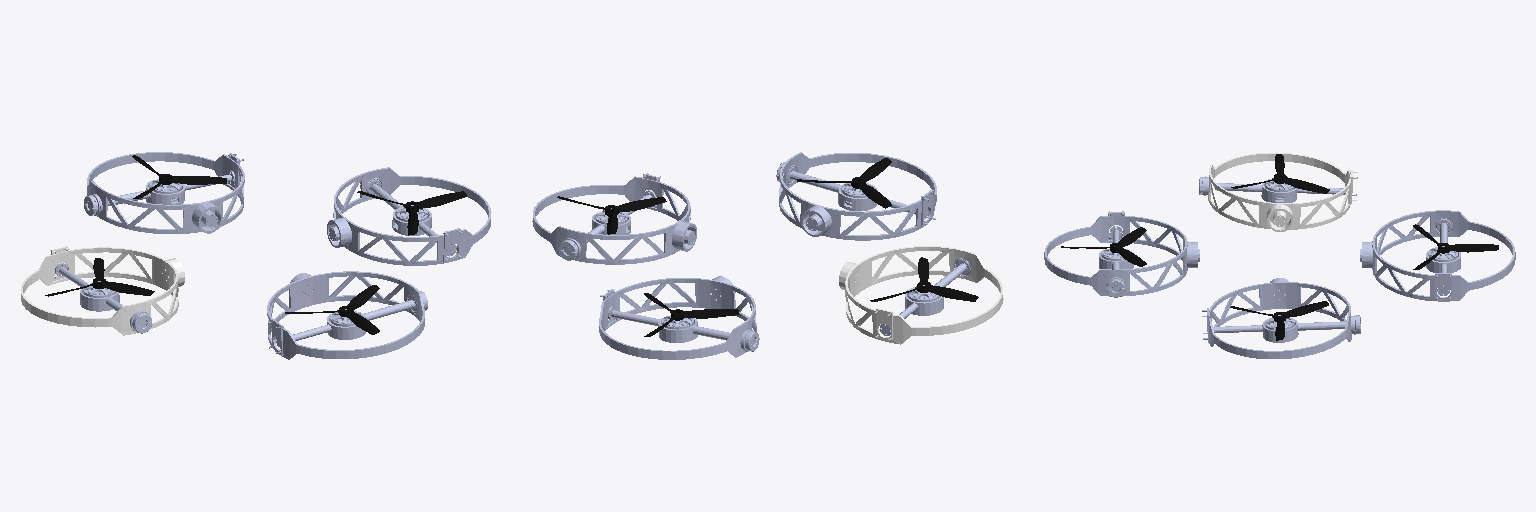
URDF robot description (test10):
<?xml version="1.0" encoding="utf-8"?>
<!-- This URDF was automatically created by SolidWorks to URDF Exporter! Originally created by [author] ([email redacted]) 
     Commit Version: 1.6.0-4-g7f85cfe  Build Version: 1.6.7995.38578
     For more information, please see http://wiki.ros.org/sw_urdf_exporter -->
<robot
  name="test10">
    <gazebo>
    <ros_p3d name="quadrotor_1_controller" plugin="libros_p3d.so">
      <alwaysOn>true</alwaysOn>
      <updateRate>100.0</updateRate>
      <bodyName>quadrotor_1</bodyName>
      <topicName>quadrotor_1_ground_truth</topicName>
      <gaussianNoise>0.0</gaussianNoise>
      <frameName>quadrotor_1</frameName>
      <position name="quadrotor_1_p3d_position_iface" />
    </ros_p3d>
  </gazebo>
  <link
    name="base_link">
    <inertial>
      <origin
        xyz="-2.0483E-06 -2.7341E-07 0.00032306"
        rpy="0 0 0" />
      <mass
        value="0.716" />
      <inertia
        ixx="0.0018504"
        ixy="0"
        ixz="0"
        iyy="0.0018507"
        iyz="0"
        izz="0.0029763" />
    </inertial>
    <visual>
      <origin
        xyz="0 0 0"
        rpy="0 0 0" />
      <geometry>
        <mesh
          filename="package://test10/meshes/base_link.STL" />
      </geometry>
      <material
        name="">
        <color
          rgba="0.79216 0.81961 0.93333 1" />
      </material>
    </visual>
    <collision>
      <origin
        xyz="0 0 0"
        rpy="0 0 0" />
      <geometry>
        <mesh
          filename="package://test10/meshes/base_link.STL" />
      </geometry>
    </collision>
  </link>
  <link
    name="G1">
    <inertial>
      <origin
        xyz="0.040515 0.073283 0.00065556"
        rpy="0 0 0" />
      <mass
        value="0.074" />
      <inertia
        ixx="0.0026999"
        ixy="0.00097133"
        ixz="-3.2069E-05"
        iyy="0.00056805"
        iyz="-7.9984E-05"
        izz="0.0032488" />
    </inertial>
    <visual>
      <origin
        xyz="0 0 0"
        rpy="0 0 0" />
      <geometry>
        <mesh
          filename="package://test10/meshes/G1.STL" />
      </geometry>
      <material
        name="">
        <color
          rgba="0.79216 0.81961 0.93333 1" />
      </material>
    </visual>
    <collision>
      <origin
        xyz="0 0 0"
        rpy="0 0 0" />
      <geometry>
        <mesh
          filename="package://test10/meshes/G1.STL" />
      </geometry>
    </collision>
  </link>
  <joint
    name="gbj1"
    type="continuous">
    <origin
      xyz="0 0.10513 -0.0045469"
      rpy="0 0.043141 -0.0013061" />
    <parent
      link="base_link" />
    <child
      link="G1" />
    <axis
      xyz="0.0023632 -1 0" />
    <limit
      lower="-3.142"
      upper="3.142"
      effort="200"
      velocity="6" />
  </joint>
  <link
    name="A1">
    <inertial>
      <origin
        xyz="0.042894 2.7051E-05 -0.0026886"
        rpy="0 0 0" />
      <mass
        value="0.062" />
      <inertia
        ixx="0.0024276"
        ixy="-9.4685E-05"
        ixz="0"
        iyy="7.4135E-05"
        iyz="-0.00010176"
        izz="0.00249" />
    </inertial>
    <visual>
      <origin
        xyz="0 0 0"
        rpy="0 0 0" />
      <geometry>
        <mesh
          filename="package://test10/meshes/A1.STL" />
      </geometry>
      <material
        name="">
        <color
          rgba="0.79216 0.81961 0.93333 1" />
      </material>
    </visual>
    <collision>
      <origin
        xyz="0 0 0"
        rpy="0 0 0" />
      <geometry>
        <mesh
          filename="package://test10/meshes/A1.STL" />
      </geometry>
    </collision>
  </link>
  <joint
    name="ag1"
    type="continuous">
    <origin
      xyz="-0.058591 0.092334 -0.0044451"
      rpy="0 -0.043141 0" />
    <parent
      link="G1" />
    <child
      link="A1" />
    <axis
      xyz="0.99907 0 -0.043128" />
    <limit
      lower="-3.142"
      upper="3.142"
      effort="200"
      velocity="6" />
  </joint>
  <link
    name="P1">
    <inertial>
      <origin
        xyz="0.001062 -1.6581E-07 0.024586"
        rpy="0 0 0" />
      <mass
        value="0.007" />
      <inertia
        ixx="0.00027514"
        ixy="0"
        ixz="0"
        iyy="0"
        iyz="0"
        izz="0.0002774" />
    </inertial>
    <visual>
      <origin
        xyz="0 0 0"
        rpy="0 0 0" />
      <geometry>
        <mesh
          filename="package://test10/meshes/P1.STL" />
      </geometry>
      <material
        name="">
        <color
          rgba="0.10196 0.10196 0.10196 1" />
      </material>
    </visual>
    <collision>
      <origin
        xyz="0 0 0"
        rpy="0 0 0" />
      <geometry>
        <mesh
          filename="package://test10/meshes/P1.STL" />
      </geometry>
    </collision>
  </link>
  <joint
    name="paj1"
    type="continuous">
    <origin
      xyz="0.057787 -0.00018035 -0.012992"
      rpy="0 0 0" />
    <parent
      link="A1" />
    <child
      link="P1" />
    <axis
      xyz="0.043128 0 0.99907" />
  </joint>
  <link
    name="G2">
    <inertial>
      <origin
        xyz="0.073283 -0.040515 0.00065557"
        rpy="0 0 0" />
      <mass
        value="0.074" />
      <inertia
        ixx="0.0026999"
        ixy="0.00097133"
        ixz="-3.2069E-05"
        iyy="0.00056805"
        iyz="-7.9984E-05"
        izz="0.0032488" />
    </inertial>
    <visual>
      <origin
        xyz="0 0 0"
        rpy="0 0 0" />
      <geometry>
        <mesh
          filename="package://test10/meshes/G2.STL" />
      </geometry>
      <material
        name="">
        <color
          rgba="0.79216 0.81961 0.93333 1" />
      </material>
    </visual>
    <collision>
      <origin
        xyz="0 0 0"
        rpy="0 0 0" />
      <geometry>
        <mesh
          filename="package://test10/meshes/G2.STL" />
      </geometry>
    </collision>
  </link>
  <joint
    name="gbj2"
    type="continuous">
    <origin
      xyz="0.10514 0 -0.0045469"
      rpy="0.043141 0 -0.0013061" />
    <parent
      link="base_link" />
    <child
      link="G2" />
    <axis
      xyz="-1 -0.0023632 0" />
    <limit
      lower="-3.142"
      upper="3.142"
      effort="200"
      velocity="6" />
  </joint>
  <link
    name="A2">
    <inertial>
      <origin
        xyz="2.7051E-05 -0.042894 -0.0026886"
        rpy="0 0 0" />
      <mass
        value="0.062" />
      <inertia
        ixx="0.0024276"
        ixy="-9.4685E-05"
        ixz="0"
        iyy="7.4135E-05"
        iyz="-0.00010176"
        izz="0.00249" />
    </inertial>
    <visual>
      <origin
        xyz="0 0 0"
        rpy="0 0 0" />
      <geometry>
        <mesh
          filename="package://test10/meshes/A2.STL" />
      </geometry>
      <material
        name="">
        <color
          rgba="0.79216 0.81961 0.93333 1" />
      </material>
    </visual>
    <collision>
      <origin
        xyz="0 0 0"
        rpy="0 0 0" />
      <geometry>
        <mesh
          filename="package://test10/meshes/A2.STL" />
      </geometry>
    </collision>
  </link>
  <joint
    name="agj2"
    type="continuous">
    <origin
      xyz="0.0923337781408738 0.0585909956783597 -0.00444506388906202"
      rpy="-0.0431411185247052 0 0" />
    <parent
      link="G2" />
    <child
      link="A2" />
    <axis
      xyz="0 -0.999069566266517 -0.0431277377105833" />
    <limit
      lower="-3.142"
      upper="3.142"
      effort="200"
      velocity="6" />
  </joint>
  <link
    name="P2">
    <inertial>
      <origin
        xyz="-1.6583E-07 -0.001062 0.024586"
        rpy="0 0 0" />
      <mass
        value="0.007" />
      <inertia
        ixx="0.00027514"
        ixy="0"
        ixz="0"
        iyy="0"
        iyz="0"
        izz="0.0002774" />
    </inertial>
    <visual>
      <origin
        xyz="0 0 0"
        rpy="0 0 0" />
      <geometry>
        <mesh
          filename="package://test10/meshes/P2.STL" />
      </geometry>
      <material
        name="">
        <color
          rgba="0.10196 0.10196 0.10196 1" />
      </material>
    </visual>
    <collision>
      <origin
        xyz="0 0 0"
        rpy="0 0 0" />
      <geometry>
        <mesh
          filename="package://test10/meshes/P2.STL" />
      </geometry>
    </collision>
  </link>
  <joint
    name="paj2"
    type="continuous">
    <origin
      xyz="-0.000180347998583751 -0.0577873175705268 -0.0129922247945251"
      rpy="0 0 0" />
    <parent
      link="A2" />
    <child
      link="P2" />
    <axis
      xyz="0 -0.0431277377105835 0.999069566266517" />
  </joint>
  <link
    name="G3">
    <inertial>
      <origin
        xyz="-0.040505 -0.073262 0.0020692"
        rpy="0 0 0" />
      <mass
        value="0.074" />
      <inertia
        ixx="0.0026999"
        ixy="0.00097133"
        ixz="-3.2069E-05"
        iyy="0.00056805"
        iyz="-7.9984E-05"
        izz="0.0032488" />
    </inertial>
    <visual>
      <origin
        xyz="0 0 0"
        rpy="0 0 0" />
      <geometry>
        <mesh
          filename="package://test10/meshes/G3.STL" />
      </geometry>
      <material
        name="">
        <color
          rgba="0.79216 0.81961 0.93333 1" />
      </material>
    </visual>
    <collision>
      <origin
        xyz="0 0 0"
        rpy="0 0 0" />
      <geometry>
        <mesh
          filename="package://test10/meshes/G3.STL" />
      </geometry>
    </collision>
  </link>
  <joint
    name="gbj3"
    type="continuous">
    <origin
      xyz="0 -0.10513 -0.0045469"
      rpy="0.043141 0 -0.0013061" />
    <parent
      link="base_link" />
    <child
      link="G3" />
    <axis
      xyz="-0.002361 0.99906 -0.043229" />
    <limit
      lower="-3.142"
      upper="3.142"
      effort="200"
      velocity="6" />
  </joint>
  <link
    name="A3">
    <inertial>
      <origin
        xyz="-0.042894 -2.7051E-05 -0.0026886"
        rpy="0 0 0" />
      <mass
        value="0.062" />
      <inertia
        ixx="0.0024276"
        ixy="-9.4685E-05"
        ixz="0"
        iyy="7.4135E-05"
        iyz="-0.00010176"
        izz="0.00249" />
    </inertial>
    <visual>
      <origin
        xyz="0 0 0"
        rpy="0 0 0" />
      <geometry>
        <mesh
          filename="package://test10/meshes/A3.STL" />
      </geometry>
      <material
        name="">
        <color
          rgba="0.79216 0.81961 0.93333 1" />
      </material>
    </visual>
    <collision>
      <origin
        xyz="0 0 0"
        rpy="0 0 0" />
      <geometry>
        <mesh
          filename="package://test10/meshes/A3.STL" />
      </geometry>
    </collision>
  </link>
  <joint
    name="agj3"
    type="continuous">
    <origin
      xyz="0.0587281861890161 -0.0923304155040721 0.00206989688660292"
      rpy="-0.0431411185247052 0 0" />
    <parent
      link="G3" />
    <child
      link="A3" />
    <axis
      xyz="-0.999069566266517 0 -0.0431277377105831" />
    <limit
      lower="-3.142"
      upper="3.142"
      effort="200"
      velocity="6" />
  </joint>
  <link
    name="P3">
    <inertial>
      <origin
        xyz="-0.001062 1.6583E-07 0.024586"
        rpy="0 0 0" />
      <mass
        value="0.007" />
      <inertia
        ixx="0.00027514"
        ixy="0"
        ixz="0"
        iyy="0"
        iyz="0"
        izz="0.0002774" />
    </inertial>
    <visual>
      <origin
        xyz="0 0 0"
        rpy="0 0 0" />
      <geometry>
        <mesh
          filename="package://test10/meshes/P3.STL" />
      </geometry>
      <material
        name="">
        <color
          rgba="0.10196 0.10196 0.10196 1" />
      </material>
    </visual>
    <collision>
      <origin
        xyz="0 0 0"
        rpy="0 0 0" />
      <geometry>
        <mesh
          filename="package://test10/meshes/P3.STL" />
      </geometry>
    </collision>
  </link>
  <joint
    name="paj3"
    type="continuous">
    <origin
      xyz="-0.0577873175705267 0.00018034799858524 -0.0129922247945251"
      rpy="0 0 0" />
    <parent
      link="A3" />
    <child
      link="P3" />
    <axis
      xyz="-0.0431277377105836 0 0.999069566266517" />
  </joint>
  <link
    name="G4">
    <inertial>
      <origin
        xyz="0 0 0"
        rpy="0 0 0" />
      <mass
        value="0.074" />
      <inertia
        ixx="0.0026999"
        ixy="0.00097133"
        ixz="-3.2069E-05"
        iyy="0.00056805"
        iyz="-7.9984E-05"
        izz="0.0032488" />
    </inertial>
    <visual>
      <origin
        xyz="0 0 0"
        rpy="0 0 0" />
      <geometry>
        <mesh
          filename="package://test10/meshes/G4.STL" />
      </geometry>
      <material
        name="">
        <color
          rgba="1 1 1 1" />
      </material>
    </visual>
    <collision>
      <origin
        xyz="0 0 0"
        rpy="0 0 0" />
      <geometry>
        <mesh
          filename="package://test10/meshes/G4.STL" />
      </geometry>
    </collision>
  </link>
  <joint
    name="gbj4"
    type="continuous">
    <origin
      xyz="-0.105133169870296 0 -0.00454694768785063"
      rpy="0.0431411185247051 0 -0.00130612314141312" />
    <parent
      link="base_link" />
    <child
      link="G4" />
    <axis
      xyz="0.999997207633268 0.00235441129640408 -0.000203649489235419" />
    <limit
      lower="-3.142"
      upper="3.142"
      effort="200"
      velocity="6" />
  </joint>
  <link
    name="A4">
    <inertial>
      <origin
        xyz="-2.7188E-05 -0.066933 0.0049502"
        rpy="0 0 0" />
      <mass
        value="0.062" />
      <inertia
        ixx="0.0024276"
        ixy="-9.4685E-05"
        ixz="0"
        iyy="7.4135E-05"
        iyz="-0.00010176"
        izz="0.00249" />
    </inertial>
    <visual>
      <origin
        xyz="0 0 0"
        rpy="0 0 0" />
      <geometry>
        <mesh
          filename="package://test10/meshes/A4.STL" />
      </geometry>
      <material
        name="">
        <color
          rgba="0.79216 0.81961 0.93333 1" />
      </material>
    </visual>
    <collision>
      <origin
        xyz="0 0 0"
        rpy="0 0 0" />
      <geometry>
        <mesh
          filename="package://test10/meshes/A4.STL" />
      </geometry>
    </collision>
  </link>
  <joint
    name="agj4"
    type="continuous">
    <origin
      xyz="-0.0923336412578692 0.0509154658448286 -0.00886569603121318"
      rpy="0 0 0" />
    <parent
      link="G4" />
    <child
      link="A4" />
    <axis
      xyz="0 -0.996279996479934 0.0861752204171375" />
    <limit
      lower="-3.142"
      upper="3.142"
      effort="200"
      velocity="6" />
  </joint>
  <link
    name="P4">
    <inertial>
      <origin
        xyz="-1.6582E-07 -0.001062 0.024586"
        rpy="0 0 0" />
      <mass
        value="0.007" />
      <inertia
        ixx="0.00027514"
        ixy="0"
        ixz="0"
        iyy="0"
        iyz="0"
        izz="0.0002774" />
    </inertial>
    <visual>
      <origin
        xyz="0 0 0"
        rpy="0 0 0" />
      <geometry>
        <mesh
          filename="package://test10/meshes/P4.STL" />
      </geometry>
      <material
        name="">
        <color
          rgba="0.10196 0.10196 0.10196 1" />
      </material>
    </visual>
    <collision>
      <origin
        xyz="0 0 0"
        rpy="0 0 0" />
      <geometry>
        <mesh
          filename="package://test10/meshes/P4.STL" />
      </geometry>
    </collision>
  </link>
  <joint
    name="paj4"
    type="continuous">
    <origin
      xyz="0.000180211115580309 -0.0524983321357517 -0.00598611290297568"
      rpy="0.0431411185247052 0 3.14159265358979" />
    <parent
      link="A4" />
    <child
      link="P4" />
    <axis
      xyz="0 -0.0431277377105835 0.999069566266517" />
  </joint>
</robot>

--- What the picture shows (computed from the rendered views, not written in the file) ---
3 views of the same robot in one strip: view 1: azimuth 30°, elevation 25°; view 2: azimuth 150°, elevation 25°; view 3: azimuth 270°, elevation 25° (orthographic).
Robot: test10 — 13 links, 12 joints (12 continuous); root link base_link; default pose: all joints at 0.
Visible links, largest first — view 1: G2, G4, G1, G3, A3, A4, A1, A2, P2, P3, P4, P1; view 2: G4, G2, G3, G1, A1, A4, A3, A2, P3, P4, P2, P1; view 3: G1, G3, G4, G2, A2, A4, A1, A3, P1, P4, P2, P3.
Link boxes in pixels (x1,y1,x2,y2): G2: (327,167,491,265); G4: (20,246,184,335); G1: (87,152,244,233); G3: (267,271,424,359); A3: (276,291,427,348); A4: (55,263,151,333); A1: (84,171,235,215); A2: (360,178,456,256); P2: (357,191,466,235); P3: (285,285,379,334); P4: (45,258,154,296); P1: (132,155,226,198); G4: (839,246,1003,344); G2: (532,173,696,264); G3: (779,152,936,240); G1: (599,276,756,359); A1: (608,306,759,351); A4: (880,258,970,335); A3: (776,162,928,219); A2: (558,190,655,260); P3: (797,158,891,208); P4: (870,257,978,301); P2: (557,196,666,234); P1: (644,293,738,336); G1: (1360,210,1515,301); G3: (1044,211,1199,296); G4: (1208,153,1357,231); G2: (1202,278,1351,358); A2: (1213,315,1360,342); A4: (1199,176,1345,202); A1: (1426,218,1460,295); A3: (1099,226,1133,297); P1: (1413,224,1498,269); P4: (1231,154,1329,193); P2: (1230,301,1328,340); P3: (1061,227,1146,266).
Bounding box of the posed robot: 0.5677 × 0.5676 × 0.0417 m (x, y, z).
Meshes: 13 distinct files referenced, 12 mesh visuals loaded (12 binary STL); not drawn: 1 (reference not matched to a file when rendering).
